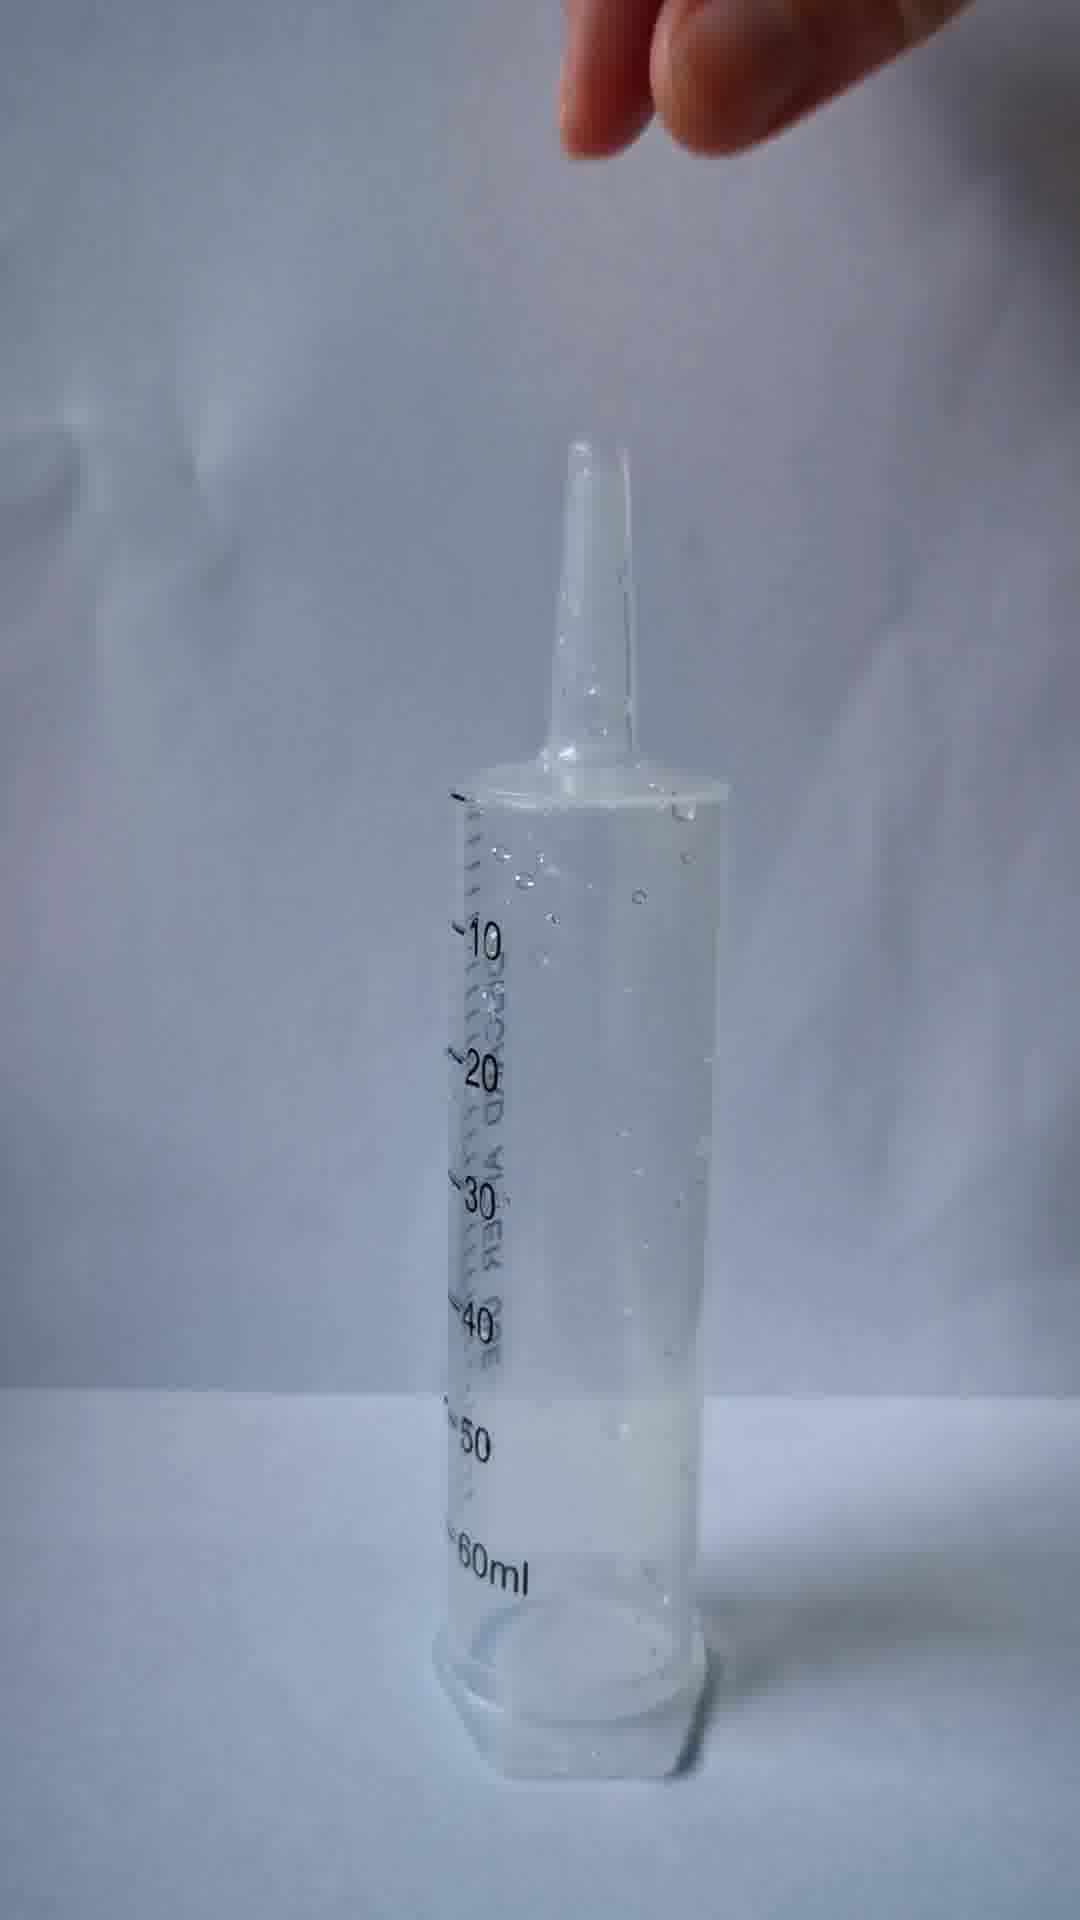syringe: (427, 431, 733, 1782)
